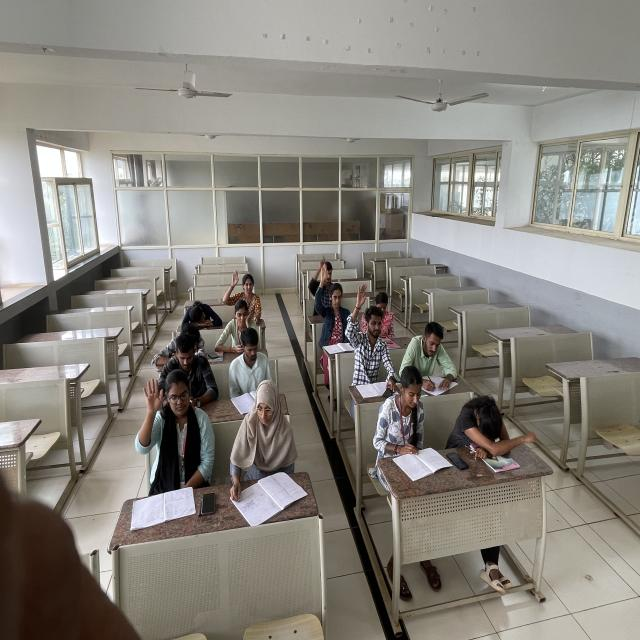Hand Rising: (137, 367, 214, 478), (351, 284, 384, 378), (318, 263, 349, 338), (223, 266, 263, 318)
Reading: (390, 368, 432, 481), (228, 328, 264, 407)
Sleeping: (459, 381, 527, 454), (180, 292, 222, 337)
Using Phone: (158, 338, 217, 406), (371, 288, 405, 346), (219, 302, 253, 352)
Writing: (404, 319, 456, 396)
